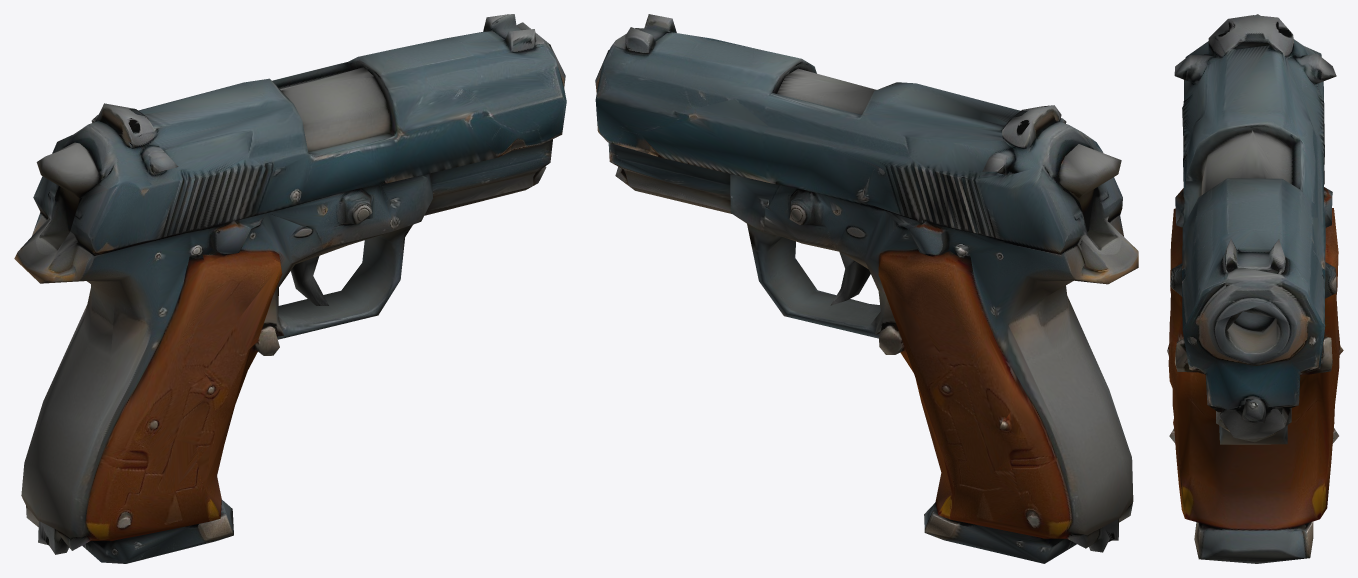
File: weapon_pistol_1500.glb
3 views of the same model, side by side, from view 1: azimuth 30°, elevation 25°; view 2: azimuth 150°, elevation 25°; view 3: azimuth 270°, elevation 25° (orthographic). The views are drawn at different scales.
Visible parts, largest first — view 1: tripo_node_5c2687b9-8948-4131-884b-435687aae20d; view 2: tripo_node_5c2687b9-8948-4131-884b-435687aae20d; view 3: tripo_node_5c2687b9-8948-4131-884b-435687aae20d.
Part boxes in pixels (x1,y1,x2,y2): tripo_node_5c2687b9-8948-4131-884b-435687aae20d: (14,14,566,563); tripo_node_5c2687b9-8948-4131-884b-435687aae20d: (595,14,1138,563); tripo_node_5c2687b9-8948-4131-884b-435687aae20d: (1167,14,1343,563).
Size of the model in its own units: 0.9823 by 0.7882 by 0.2529.
Materials: 1 (1 with a texture image).
